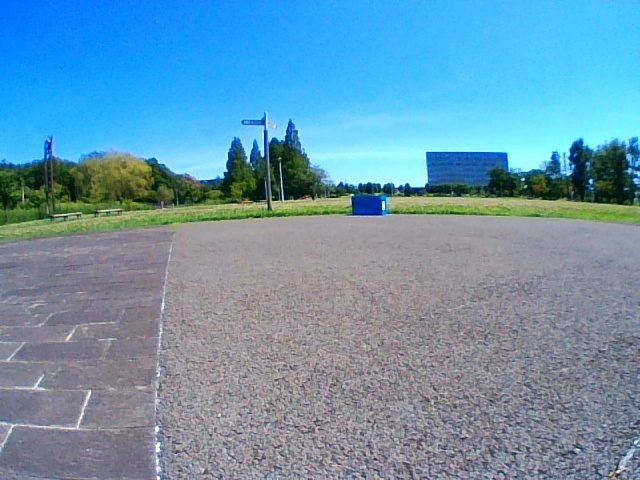blue_box: (352, 193, 386, 215)
tag: (381, 200, 385, 211)
